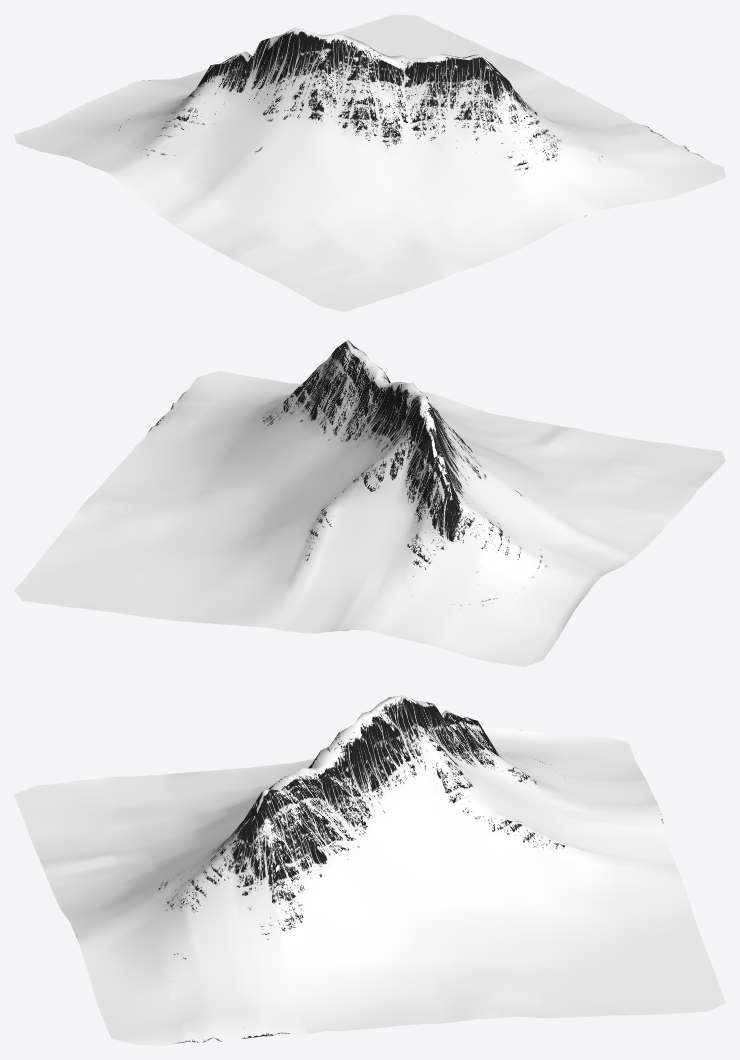
File: Snow_Mountain.fbx
The picture shows the model from 3 angles, top to bottom: view 1: azimuth 30°, elevation 25°; view 2: azimuth 150°, elevation 25°; view 3: azimuth 270°, elevation 25°; orthographic projection. The views are drawn at different scales.
Parts seen in each view (by area): view 1: Snow_Mountain; view 2: Snow_Mountain; view 3: Snow_Mountain.
Boxes of the visible parts, box(x1,y1,x2,y2) form: Snow_Mountain: box(14, 14, 725, 311); Snow_Mountain: box(14, 340, 725, 666); Snow_Mountain: box(14, 695, 725, 1045).
Bounding box in the file's own units: 27.13 × 7.22 × 27.22.
Materials: 1 (1 with a texture image).
